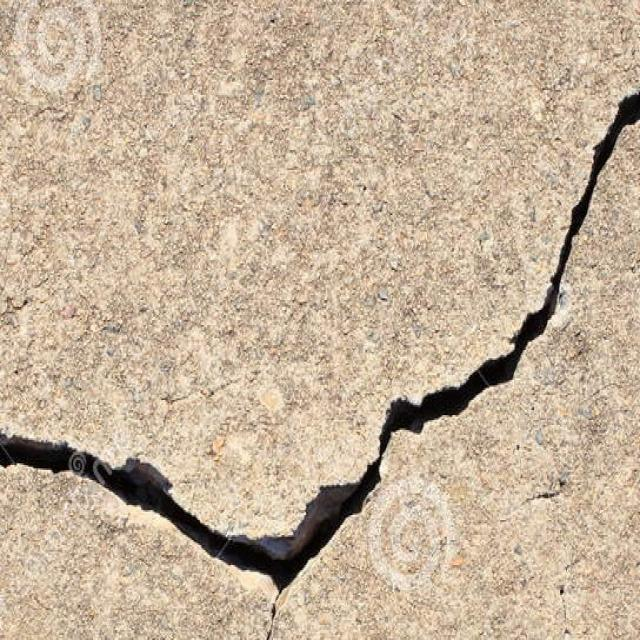Diagonal: (294, 87, 640, 567), (0, 409, 278, 612)
